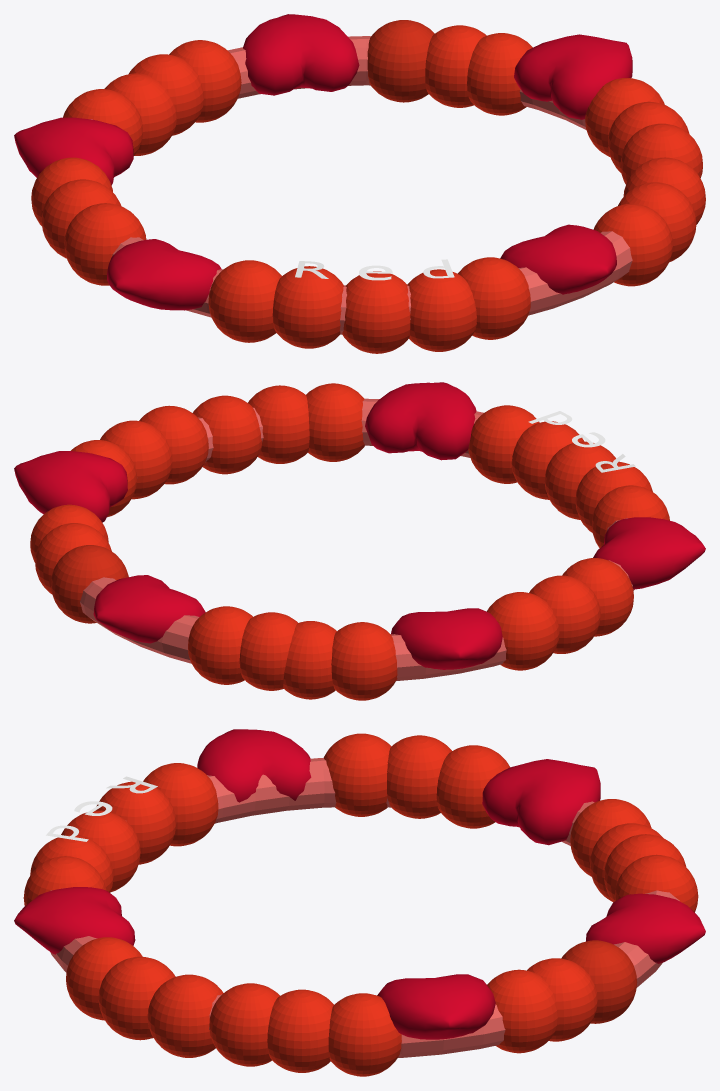
File: Red_Red.fbx
3 renders of one model, top to bottom at view 1: azimuth 30°, elevation 25°; view 2: azimuth 150°, elevation 25°; view 3: azimuth 270°, elevation 25°, orthographic. The views are drawn at different scales.
Parts seen in each view (by area): view 1: Vert.087, Vert.089, Vert.086, Vert.085, Vert.088, Torus.034, Sphere.691, Sphere.690, Sphere.694, Sphere.692, Sphere.679, Sphere.684 (+15 smaller); view 2: Vert.085, Vert.089, Vert.088, Vert.086, Vert.087, Torus.034, Sphere.686, Sphere.696, Sphere.681, Sphere.676, Sphere.693, Sphere.680 (+15 smaller); view 3: Torus.034, Vert.088, Vert.089, Vert.086, Vert.085, Vert.087, Sphere.677, Sphere.676, Sphere.678, Sphere.685, Sphere.687, Sphere.682 (+15 smaller).
Boxes of the visible parts, x1,y1,x2,y2 form: Vert.087: (243, 14, 359, 95); Vert.089: (514, 34, 632, 119); Vert.086: (107, 239, 221, 310); Vert.085: (500, 224, 616, 294); Vert.088: (14, 117, 133, 185); Torus.034: (90, 36, 632, 334); Sphere.691: (272, 266, 343, 348); Sphere.690: (208, 260, 281, 342); Sphere.694: (407, 269, 476, 351); Sphere.692: (342, 271, 410, 353); Sphere.679: (367, 20, 434, 102); Sphere.684: (457, 257, 530, 339); Vert.085: (365, 382, 476, 460); Vert.089: (14, 451, 127, 522); Vert.088: (391, 608, 502, 669); Vert.086: (593, 517, 705, 589); Vert.087: (93, 575, 205, 643); Torus.034: (80, 398, 634, 680); Sphere.686: (331, 622, 397, 700); Sphere.696: (487, 592, 559, 670); Sphere.681: (306, 383, 364, 461); Sphere.676: (193, 395, 261, 474); Sphere.693: (188, 606, 252, 684); Sphere.680: (248, 385, 309, 463); Torus.034: (50, 758, 679, 1057); Vert.088: (482, 759, 600, 845); Vert.089: (377, 974, 495, 1039); Vert.086: (197, 729, 311, 802); Vert.085: (14, 887, 135, 954); Vert.087: (586, 893, 705, 963); Sphere.677: (328, 993, 401, 1076); Sphere.676: (147, 974, 223, 1057); Sphere.678: (267, 989, 333, 1072); Sphere.685: (323, 733, 391, 816); Sphere.687: (209, 983, 279, 1066); Sphere.682: (487, 969, 558, 1053).
Bounding box in the file's own units: 121 × 17.15 × 116.
